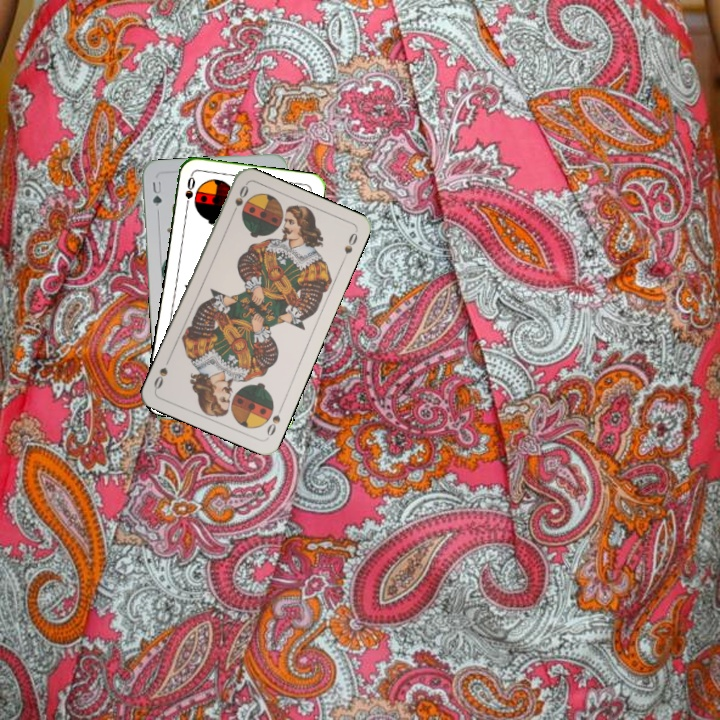GU: (148, 176, 165, 209)
SO: (227, 181, 251, 220), (263, 402, 286, 439), (181, 171, 198, 212)
